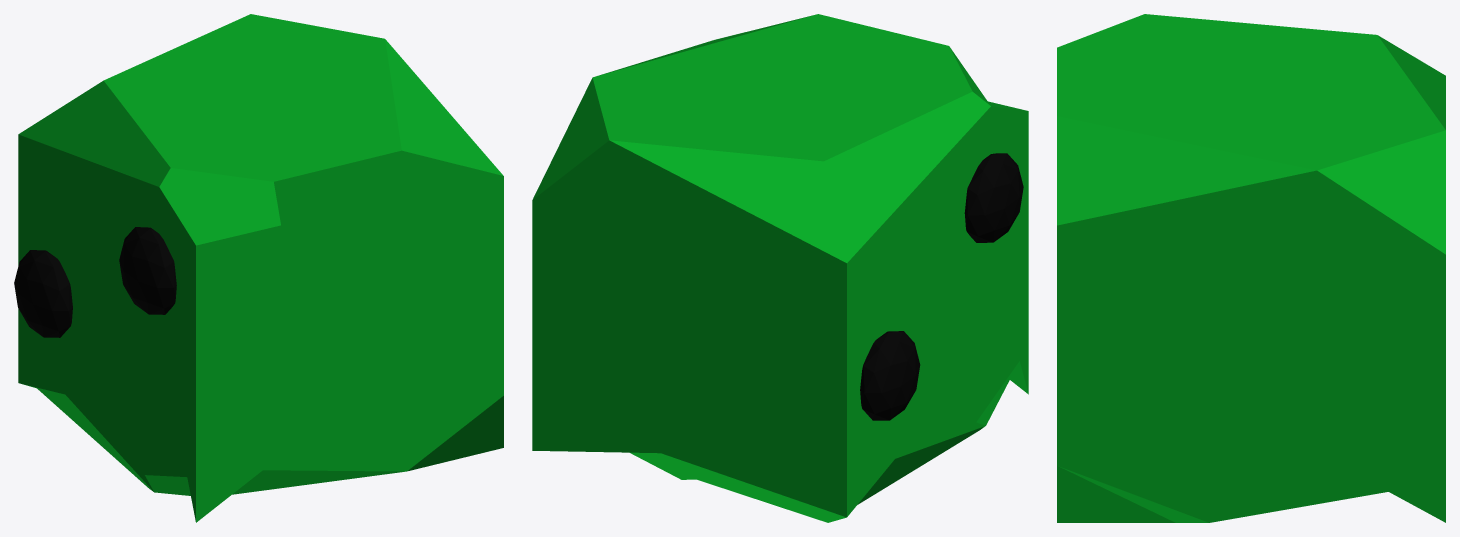
The model's file is Slime.fbx.
3 renders of one model, left to right at view 1: azimuth 30°, elevation 25°; view 2: azimuth 150°, elevation 25°; view 3: azimuth 270°, elevation 25°, orthographic. The views are drawn at different scales.
Parts seen in each view (by area): view 1: Cube, Icosphere.001, Icosphere; view 2: Cube, Icosphere.001, Icosphere; view 3: Cube.
Part boxes in pixels (x1=…): Cube: x1=18, y1=14, x2=503, y2=522; Icosphere.001: x1=14, y1=250, x2=72, y2=337; Icosphere: x1=119, y1=227, x2=176, y2=314; Cube: x1=532, y1=14, x2=1028, y2=522; Icosphere.001: x1=860, y1=331, x2=920, y2=420; Icosphere: x1=964, y1=153, x2=1023, y2=242; Cube: x1=1057, y1=14, x2=1445, y2=522.
Size of the model in its own units: 217 by 200 by 200.
